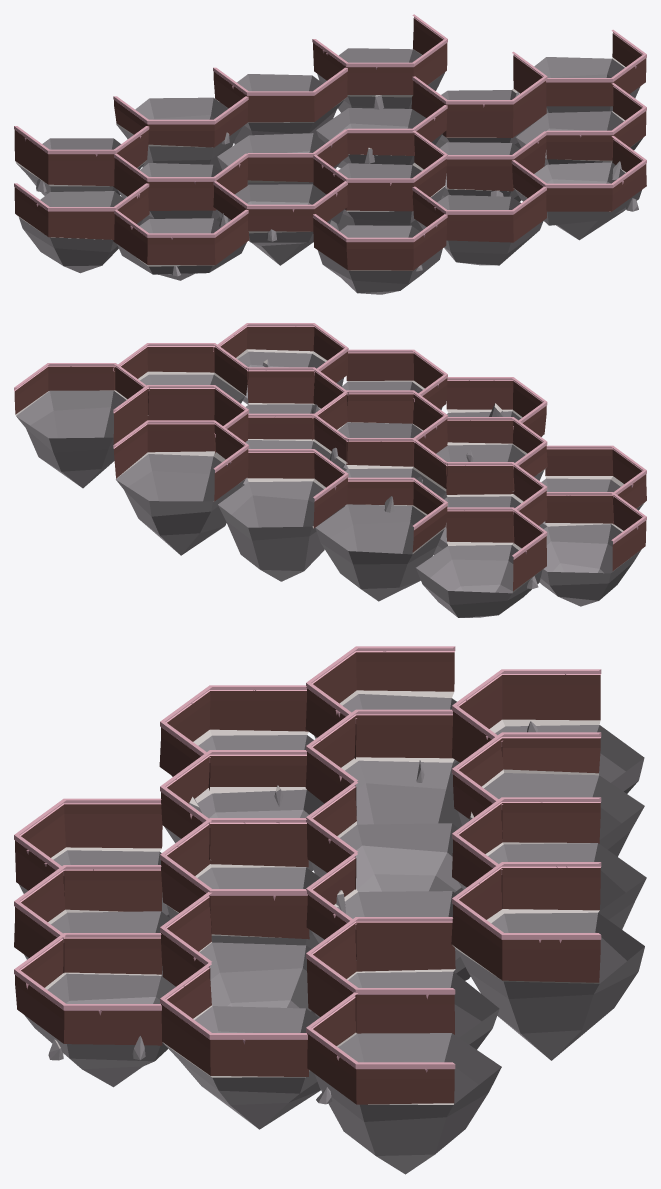
File: island_socket_left.glb
3 views of the same model, one above another, from view 1: azimuth 30°, elevation 25°; view 2: azimuth 150°, elevation 25°; view 3: azimuth 270°, elevation 25° (orthographic). The views are drawn at different scales.
Visible parts, largest first — view 1: island_socket_left_mesh; view 2: island_socket_left_mesh; view 3: island_socket_left_mesh.
Part boxes in pixels (x1=…): island_socket_left_mesh: x1=14, y1=14, x2=646, y2=294; island_socket_left_mesh: x1=14, y1=323, x2=646, y2=617; island_socket_left_mesh: x1=14, y1=646, x2=646, y2=1174.
Bounding box in the file's own units: 11.52 × 2.33 × 7.15.
